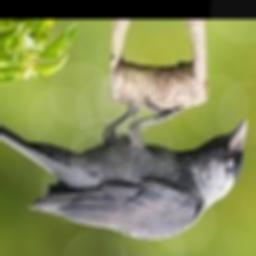Crow: (0, 97, 246, 241)
